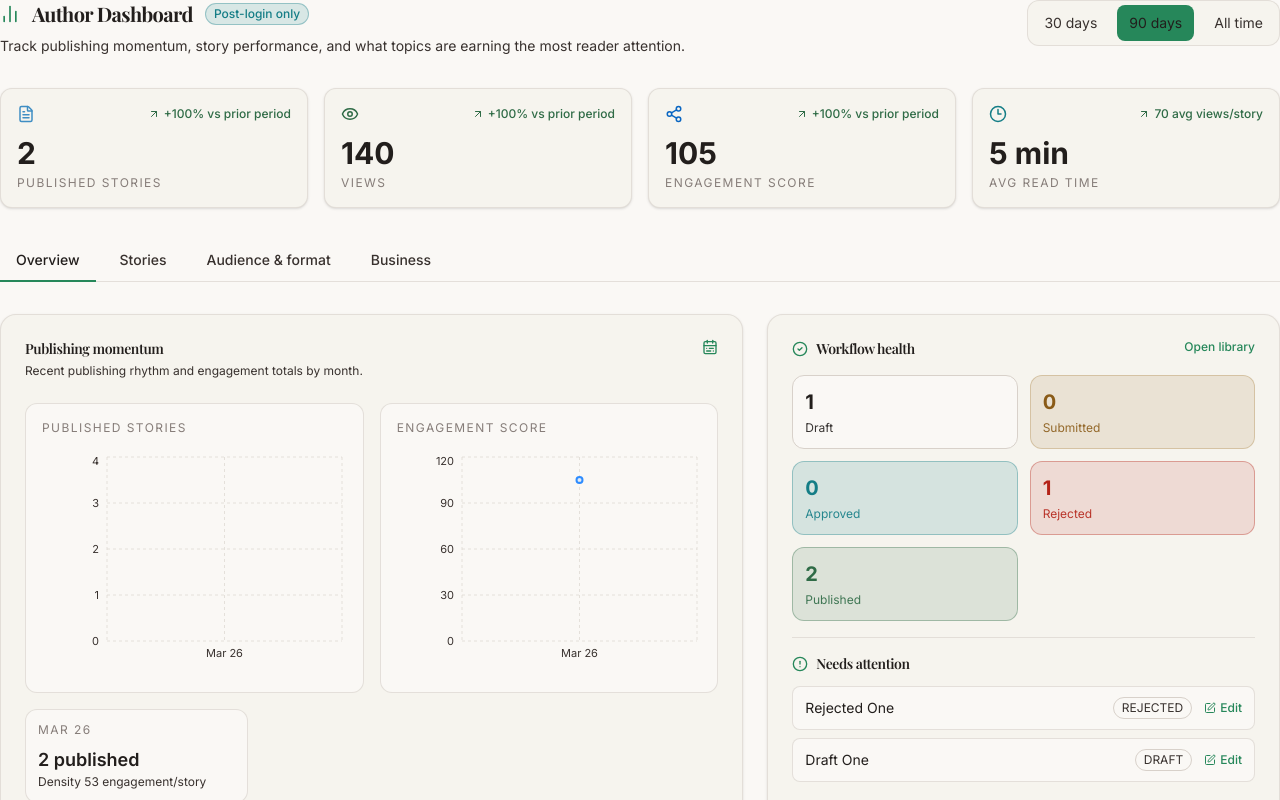
Scenario: StatsPage › renders overview metrics by default and shows top stories in the stories tab
Check: the heading "Author Dashboard" is shown, box [32,0,193,28]
Check: the text "Post-login only" is shown, box [205,3,309,25]
Click the button "Stories" at (143, 261), box [104,240,182,282]
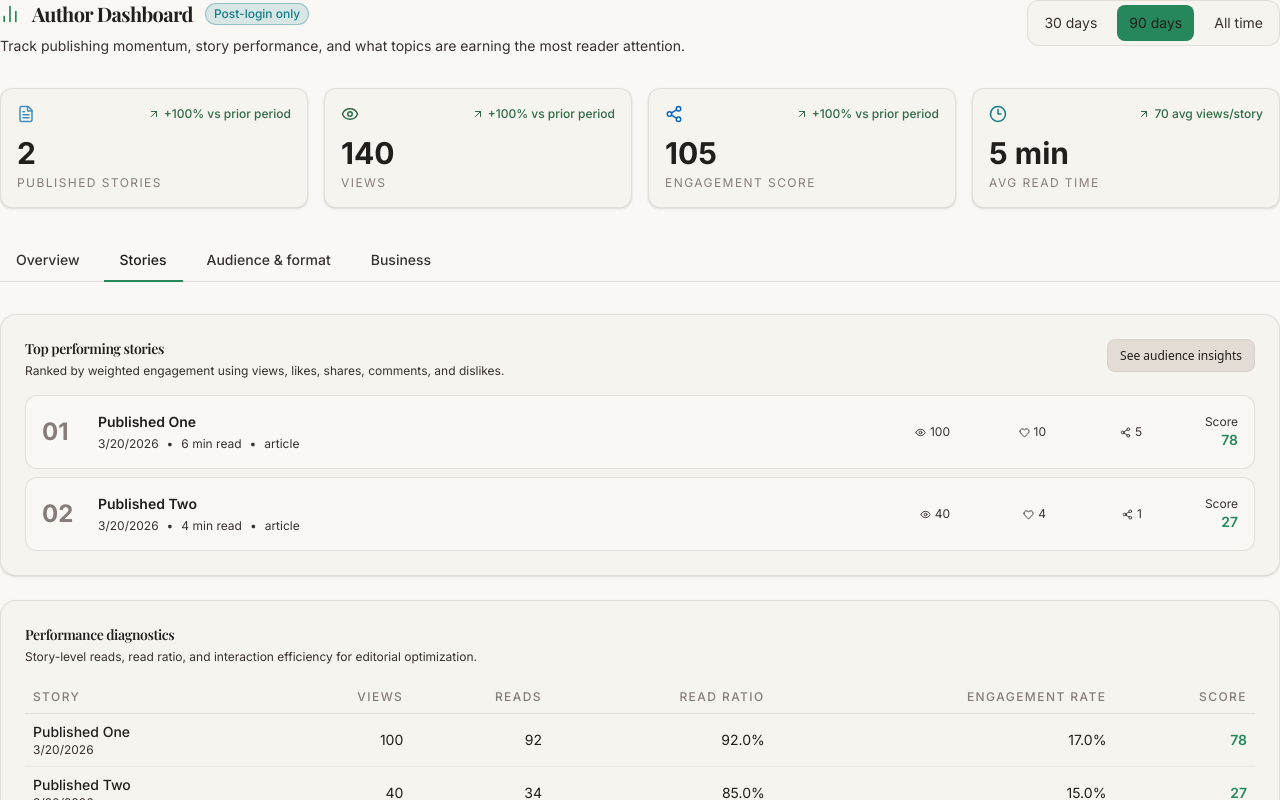
Check: the heading "Top performing stories" is shown, box [25,339,164,359]
Check: the text "Published One" below "Top performing stories" is shown, box [98,413,196,430]
Check: the text "Published Two" below "Top performing stories" is shown, box [98,495,197,512]
